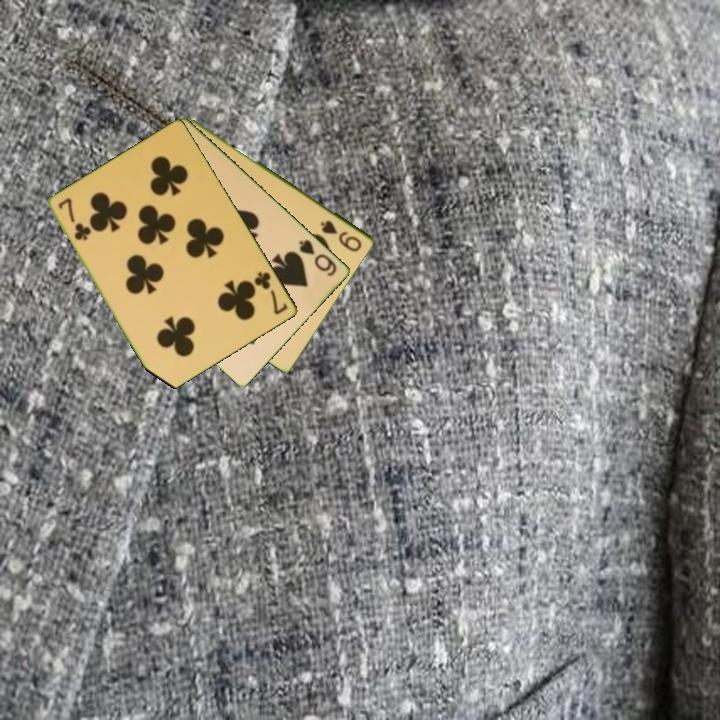6s: (296, 236, 340, 280)
7c: (251, 268, 291, 318), (55, 195, 93, 244)
9s: (317, 217, 365, 255)
